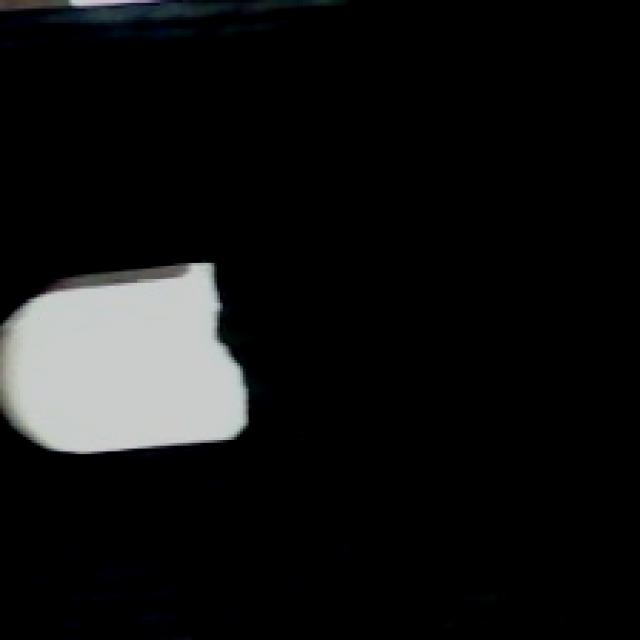defected: (3, 257, 254, 463)
